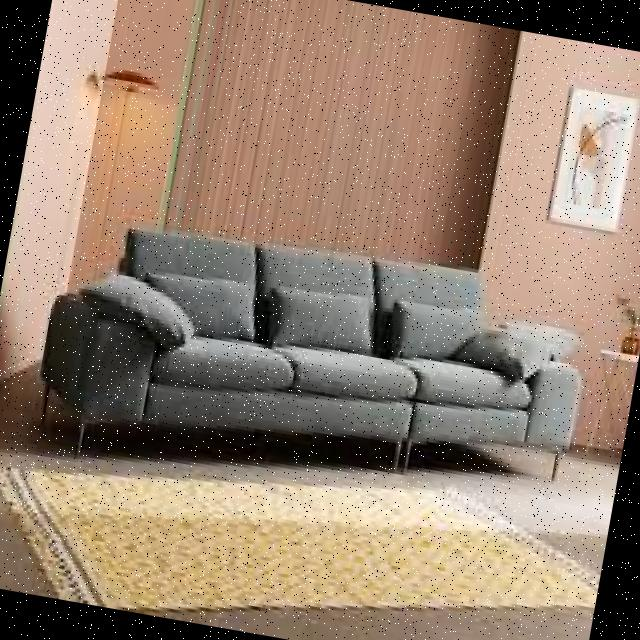Sofa: (0, 175, 610, 551)
